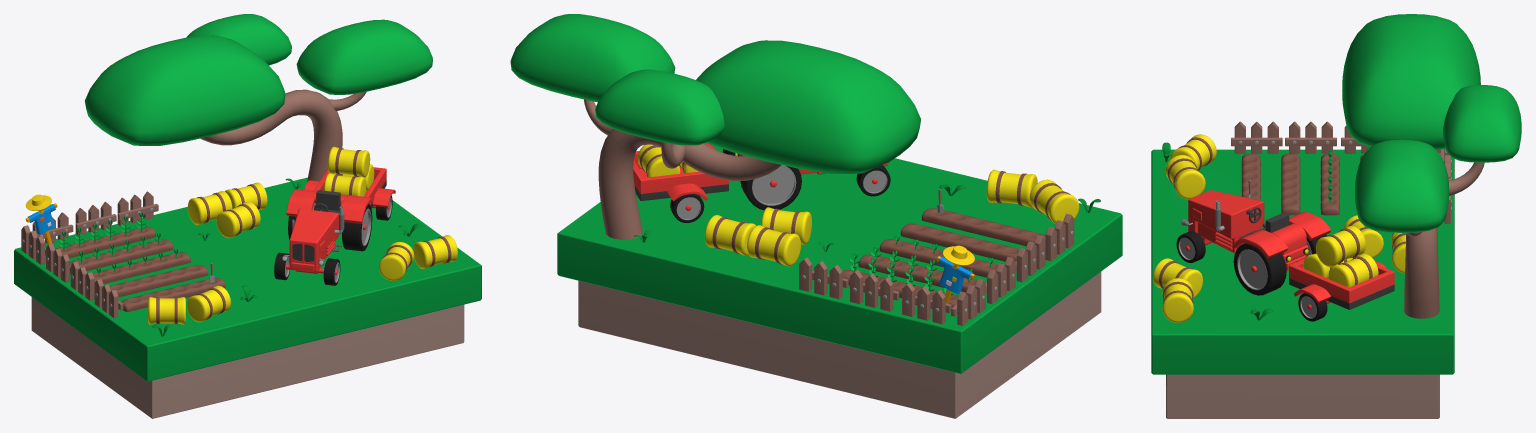
The model's file is Farm_Island_12.glb.
The picture shows the model from 3 angles, left to right: view 1: azimuth 30°, elevation 25°; view 2: azimuth 150°, elevation 25°; view 3: azimuth 270°, elevation 25°; orthographic projection. The views are drawn at different scales.
Parts seen in each view (by area): view 1: Farm_12_Base_1, Farm_12_Tree_1, Farm_12_Tractor_1, Farm_12_Garden_4, Farm_12_Garden_3, Farm_12_Trailer_1, Farm_12_Garden_2, Farm_12_Garden_1, Farm_12_Garden_5, Farm_12_Hay_3, Farm_12_Hay_8, Farm_12_Hay_6 (+14 smaller); view 2: Farm_12_Base_1, Farm_12_Tree_1, Farm_12_Trailer_1, Farm_12_Tractor_1, Farm_12_Garden_5, Farm_12_Garden_4, Farm_12_Hay_1, Farm_12_Hay_6, Farm_12_Hay_5, Farm_12_Hay_2, Farm_12_Fence_6, Farm_12_Fence_7 (+10 smaller); view 3: Farm_12_Base_1, Farm_12_Tree_1, Farm_12_Tractor_1, Farm_12_Trailer_1, Farm_12_Hay_10, Farm_12_Hay_6, Farm_12_Fence_1, Farm_12_Hay_3, Farm_12_Fence_2, Farm_12_Garden_4, Farm_12_Hay_7, Farm_12_Garden_3 (+7 smaller).
Boxes of the visible parts, bbox=[...] form: Farm_12_Base_1: bbox=[14, 177, 481, 418]; Farm_12_Tree_1: bbox=[85, 14, 432, 181]; Farm_12_Tractor_1: bbox=[274, 189, 373, 285]; Farm_12_Garden_4: bbox=[109, 265, 208, 297]; Farm_12_Garden_3: bbox=[93, 252, 190, 283]; Farm_12_Trailer_1: bbox=[304, 167, 395, 220]; Farm_12_Garden_2: bbox=[70, 239, 173, 270]; Farm_12_Garden_1: bbox=[55, 227, 155, 258]; Farm_12_Garden_5: bbox=[121, 278, 225, 311]; Farm_12_Hay_3: bbox=[413, 235, 457, 268]; Farm_12_Hay_8: bbox=[216, 201, 260, 238]; Farm_12_Hay_6: bbox=[186, 285, 230, 322]; Farm_12_Base_1: bbox=[557, 142, 1122, 418]; Farm_12_Tree_1: bbox=[510, 14, 920, 239]; Farm_12_Trailer_1: bbox=[633, 143, 728, 222]; Farm_12_Tractor_1: bbox=[722, 149, 890, 210]; Farm_12_Garden_5: bbox=[921, 208, 1045, 246]; Farm_12_Garden_4: bbox=[900, 223, 1018, 261]; Farm_12_Hay_1: bbox=[747, 225, 800, 266]; Farm_12_Hay_6: bbox=[986, 169, 1037, 207]; Farm_12_Hay_5: bbox=[1029, 179, 1079, 223]; Farm_12_Hay_2: bbox=[704, 215, 755, 255]; Farm_12_Fence_6: bbox=[849, 269, 899, 311]; Farm_12_Fence_7: bbox=[799, 257, 848, 299]; Farm_12_Base_1: bbox=[1151, 149, 1454, 418]; Farm_12_Tree_1: bbox=[1342, 14, 1521, 318]; Farm_12_Tractor_1: bbox=[1176, 190, 1330, 295]; Farm_12_Trailer_1: bbox=[1289, 256, 1394, 321]; Farm_12_Hay_10: bbox=[1316, 225, 1365, 267]; Farm_12_Hay_6: bbox=[1165, 155, 1205, 199]; Farm_12_Fence_1: bbox=[1231, 121, 1282, 153]; Farm_12_Hay_3: bbox=[1162, 278, 1193, 322]; Farm_12_Fence_2: bbox=[1285, 121, 1336, 153]; Farm_12_Garden_4: bbox=[1281, 153, 1300, 215]; Farm_12_Hay_7: bbox=[1328, 253, 1378, 287]; Farm_12_Garden_3: bbox=[1320, 153, 1339, 215].
Size of the model in its own units: 12.81 by 8.2 by 9.38.
Materials: 51 (51 with a texture image).
